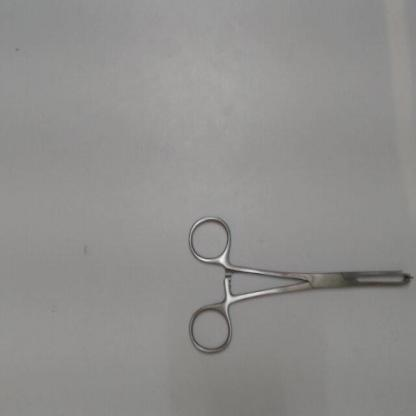Allis Tissue Forceps: (181, 209, 416, 359)
